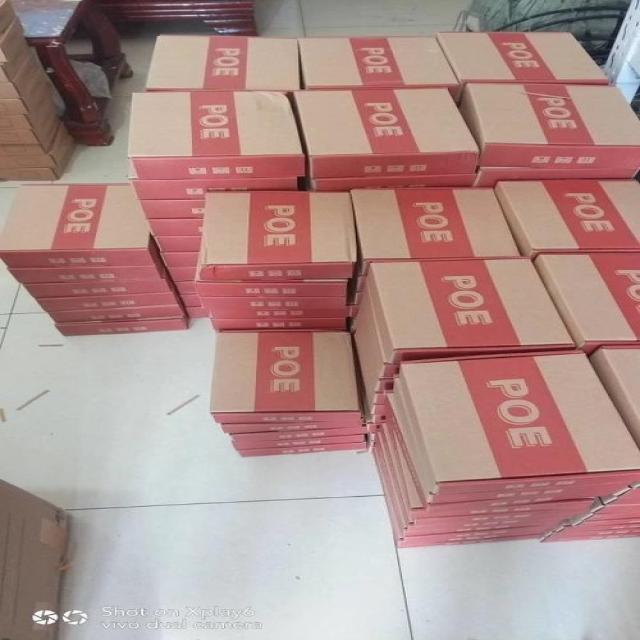box: (402, 351, 640, 496), (369, 253, 581, 364), (128, 90, 308, 181), (293, 89, 483, 174), (462, 79, 639, 168), (193, 188, 357, 280), (216, 330, 364, 424), (0, 183, 161, 267), (358, 186, 524, 261), (493, 179, 640, 253), (534, 251, 639, 348), (435, 32, 617, 84), (134, 36, 303, 91), (301, 35, 460, 89), (416, 490, 635, 518), (408, 508, 612, 537), (381, 361, 422, 505), (588, 344, 640, 443), (136, 180, 306, 203), (544, 505, 640, 544), (232, 423, 376, 449), (8, 265, 166, 288), (22, 279, 175, 302), (401, 526, 561, 547), (476, 167, 640, 186), (58, 317, 191, 340), (307, 173, 484, 190), (42, 292, 182, 312), (196, 280, 351, 297), (51, 305, 186, 324), (233, 442, 366, 458), (212, 317, 352, 332), (201, 295, 349, 309), (205, 307, 349, 319), (224, 423, 366, 435), (143, 201, 205, 222), (154, 234, 201, 254), (150, 220, 202, 237), (164, 253, 200, 268)
